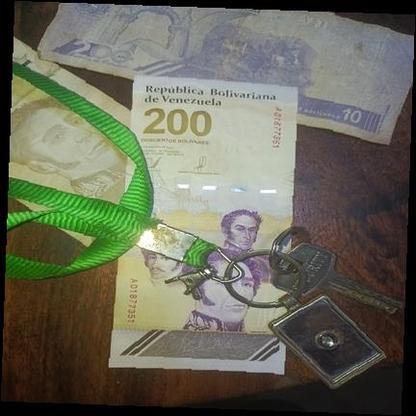vef_back: (36, 0, 412, 146)
vef_front: (108, 75, 296, 373), (5, 29, 169, 254)
